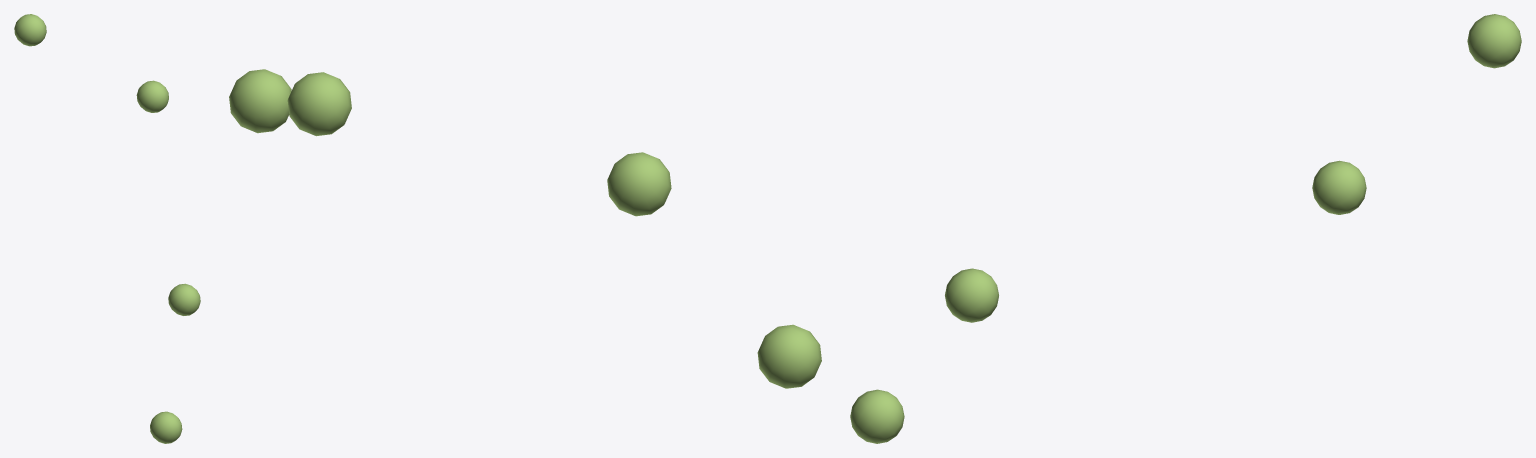
File: obturator-nodes-l.glb
3 renders of one model, left to right at view 1: azimuth 30°, elevation 25°; view 2: azimuth 150°, elevation 25°; view 3: azimuth 270°, elevation 25°, orthographic. The views are drawn at different scales.
Parts seen in each view (by area): view 1: Obturator nodes.l; view 2: Obturator nodes.l; view 3: Obturator nodes.l.
Part boxes in pixels (left/top/right/bottom): Obturator nodes.l: left=14, top=14, right=200, bottom=443; Obturator nodes.l: left=229, top=69, right=821, bottom=388; Obturator nodes.l: left=850, top=14, right=1521, bottom=443.
Bounding box in the file's own units: 0.0141 × 0.0245 × 0.0321.
